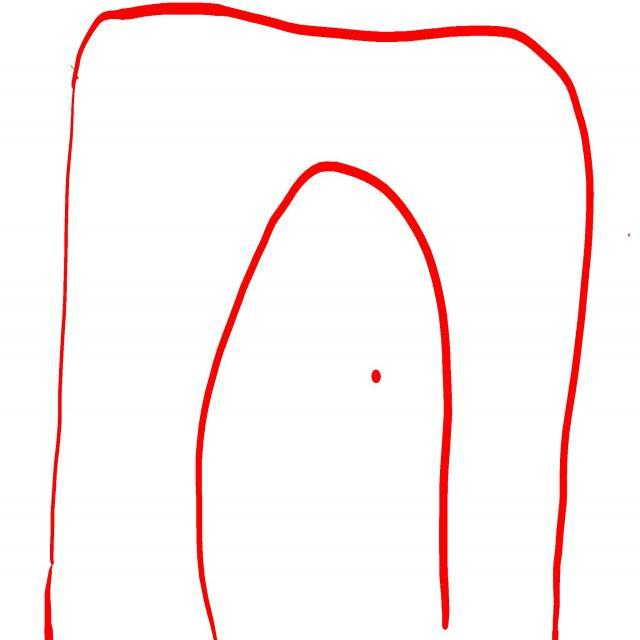door: (195, 162, 455, 640)
house: (48, 2, 595, 640)
wall: (49, 3, 593, 640)
